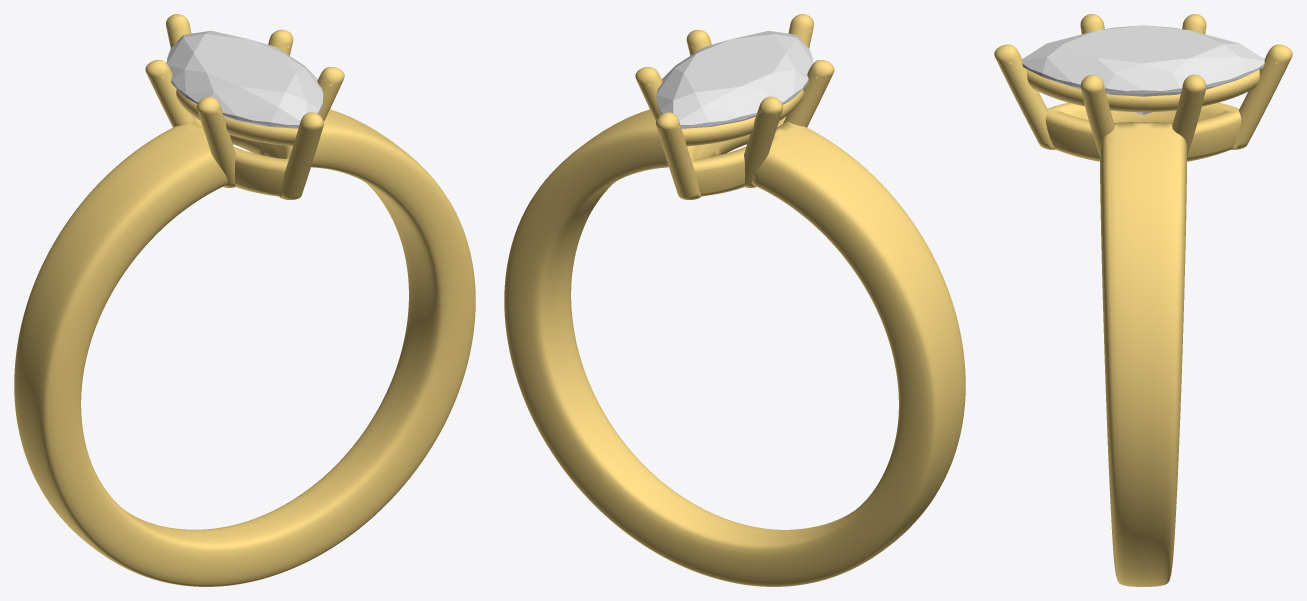
File: diamond-marquise-yellowgold-6prong-straighttaperedband-nosidestones.glb
3 views of the same model, side by side, from view 1: azimuth 30°, elevation 25°; view 2: azimuth 150°, elevation 25°; view 3: azimuth 270°, elevation 25° (orthographic).
Parts seen in each view (by area): view 1: metal.001, stone; view 2: metal.001, stone; view 3: metal.001, stone.
Part boxes in pixels (x1,y1,x2,y2): metal.001: [14, 14, 475, 586]; stone: [166, 30, 323, 128]; metal.001: [504, 14, 965, 586]; stone: [656, 30, 813, 128]; metal.001: [994, 14, 1292, 586]; stone: [1022, 25, 1264, 114].
Size of the model in its own units: 20.49 by 22.93 by 11.96.
